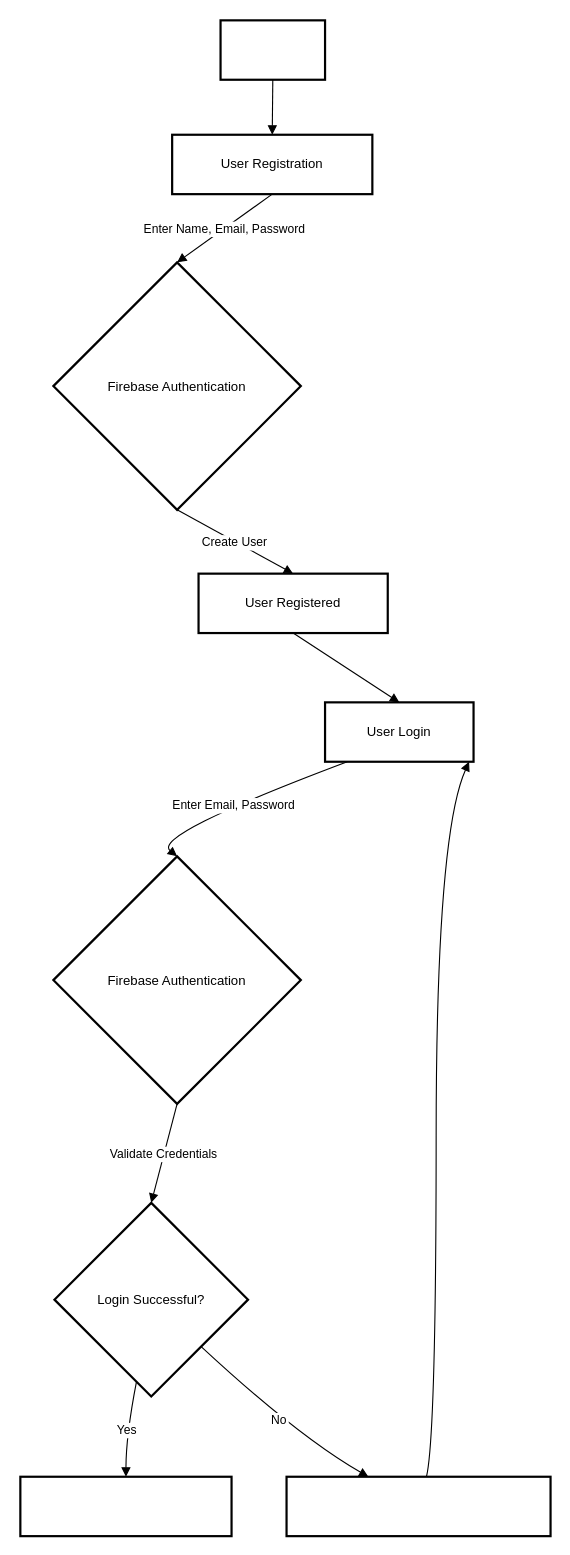
This 570x1555 diagram has some shape labels left out. The centre of each missing label's shape, as x and y in pixels:
"Access Application" belongs at (x=125, y=1506).
"Error: Invalid Credentials" belongs at (x=418, y=1506).
"Start" belongs at (x=272, y=49).
